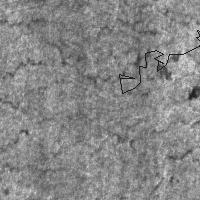crazing: (1, 4, 182, 72), (1, 97, 156, 174), (1, 43, 154, 112), (119, 10, 200, 93), (127, 118, 200, 163)
